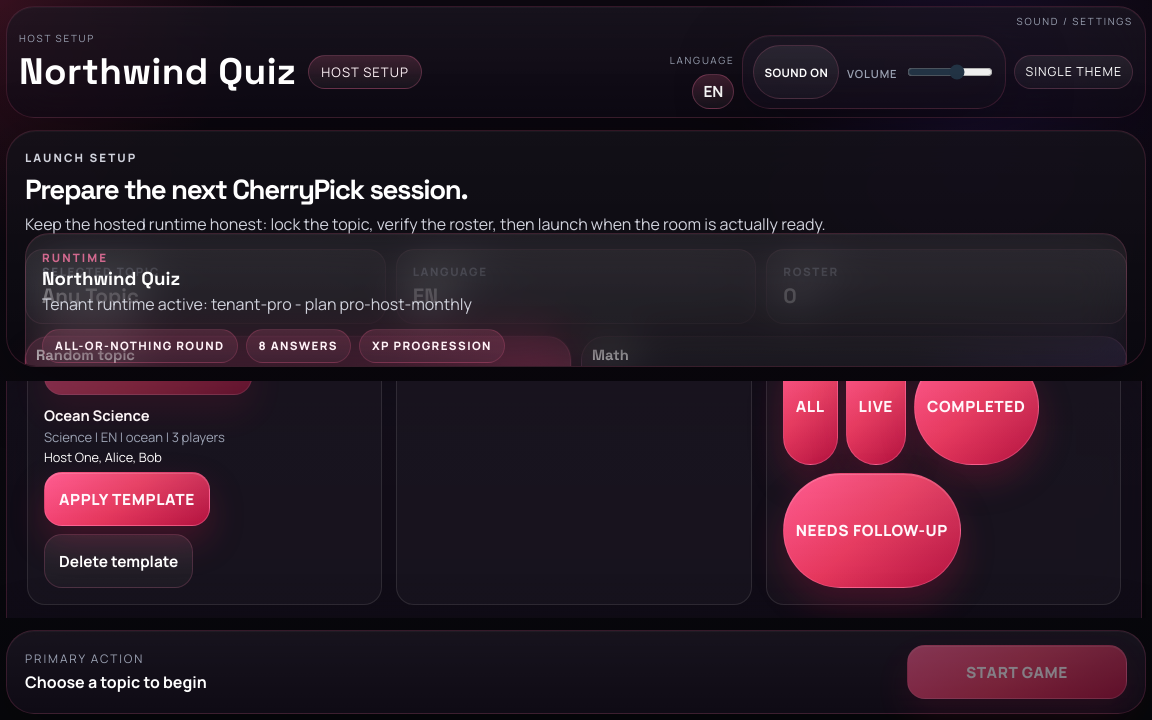
Test: App startup resilience › applies and deletes a saved session template from host workspace
The image size is (1152, 720).
(page scrolled)
Expected: the text "Ocean science" is shown, [44, 405, 150, 425]
Click the button "Apply template" at {"x": 127, "y": 500}, box [44, 472, 210, 526]
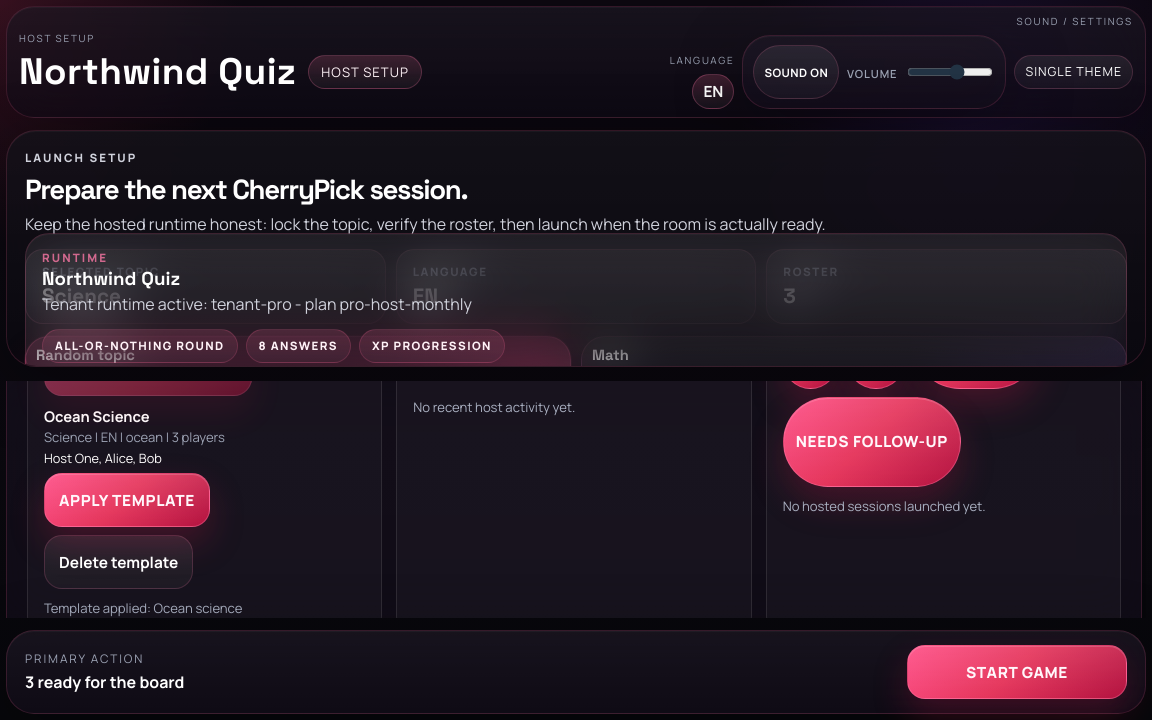
Expected: the text with test id "session-template-message" shows "Template applied", [44, 599, 242, 617]
Click the button "Delete template" at {"x": 119, "y": 562}, box [44, 535, 193, 589]
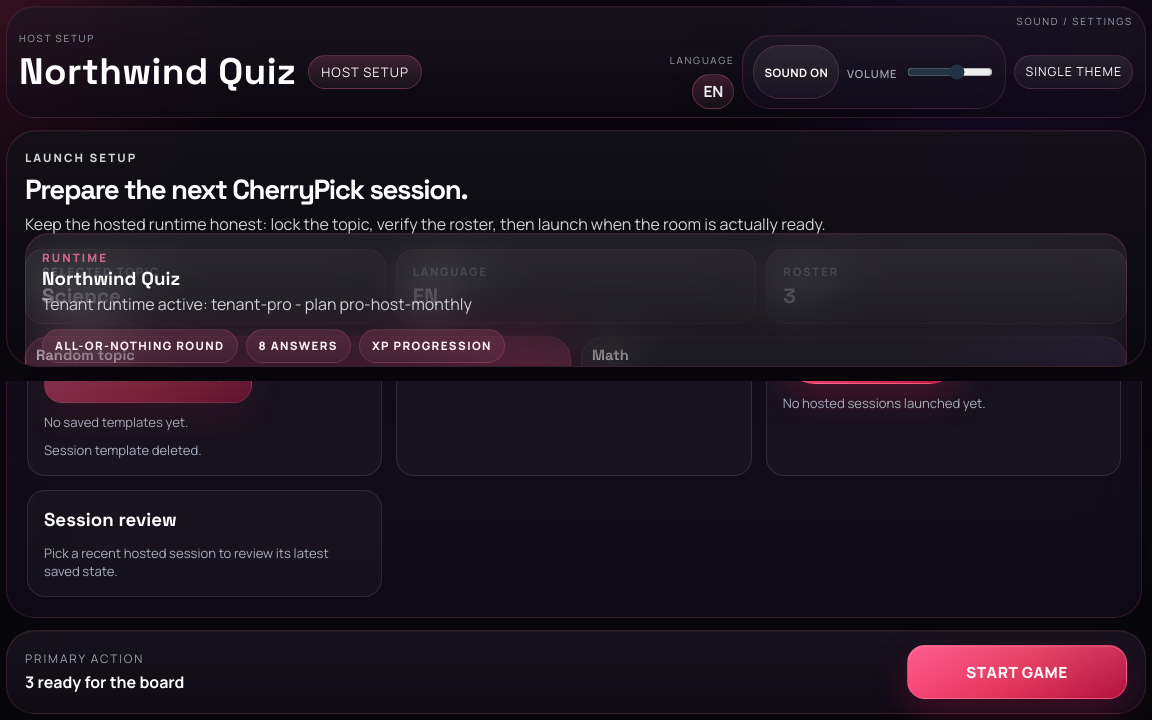
Expected: the text with test id "session-template-message" shows "Session template deleted", [44, 441, 202, 459]
Expected: the text "Ocean science" is gone
